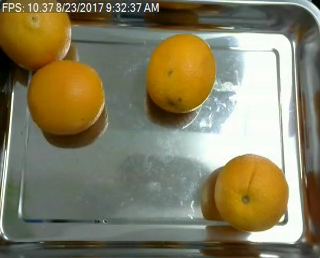Orange: (213, 153, 291, 232), (25, 59, 104, 133), (146, 33, 215, 112), (1, 13, 73, 69)
